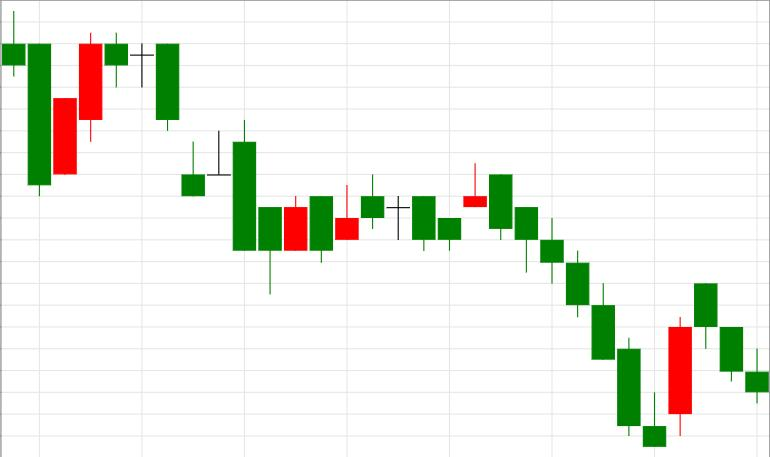morning_star_rise: (489, 174, 692, 447)
